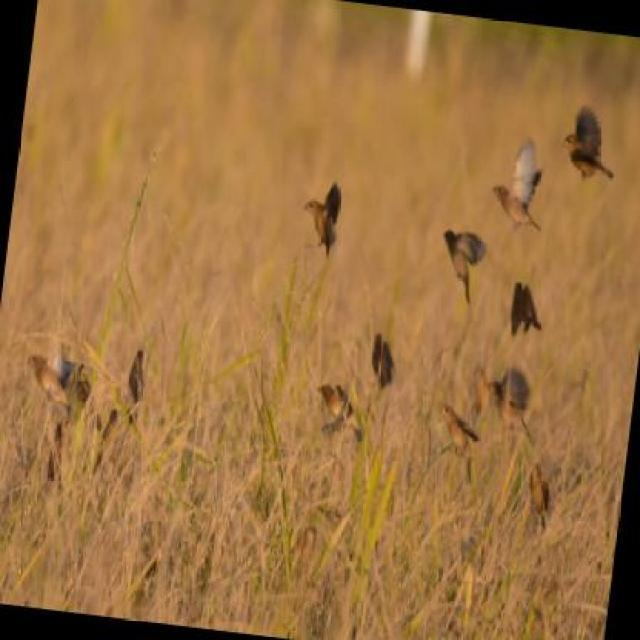Bird: (491, 136, 545, 235), (562, 104, 617, 184), (443, 226, 489, 305), (301, 179, 347, 257), (26, 352, 73, 410), (493, 363, 532, 429), (439, 402, 482, 456), (317, 382, 361, 430), (509, 278, 546, 334), (369, 329, 400, 388), (528, 460, 552, 528), (127, 345, 148, 405)
